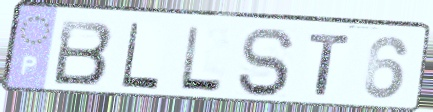6: (362, 34, 412, 102)
B: (51, 17, 116, 87)
L: (176, 24, 225, 95), (118, 20, 162, 92)
S: (234, 25, 297, 99)
T: (306, 32, 355, 98)
